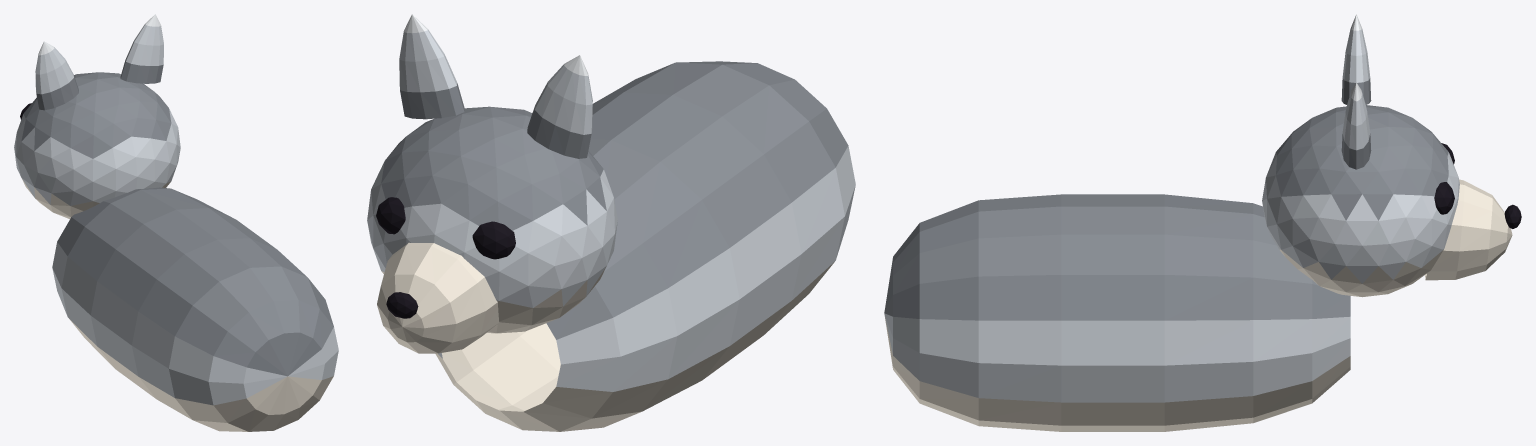
The model's file is PetQuad.obj.
3 renders of one model, left to right at view 1: azimuth 30°, elevation 25°; view 2: azimuth 150°, elevation 25°; view 3: azimuth 270°, elevation 25°, orthographic. The views are drawn at different scales.
Size of the model in its own units: 0.84 by 1.39 by 2.16.
